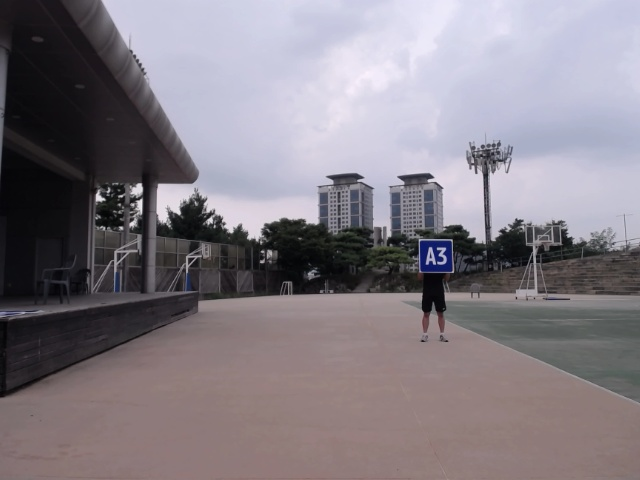delivery_a3: (419, 239, 454, 273)
